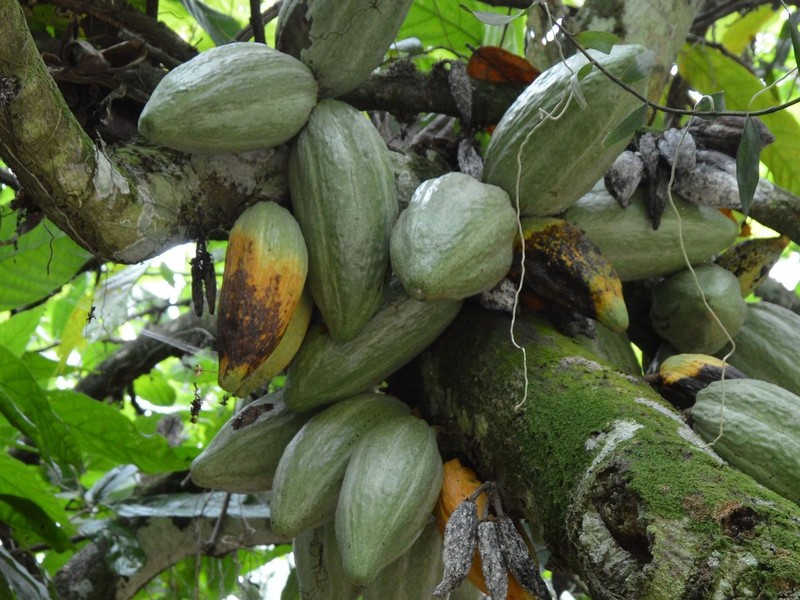Cacaopod: (483, 40, 653, 221), (286, 99, 401, 343), (134, 38, 318, 156), (335, 416, 445, 586), (389, 169, 516, 300)
